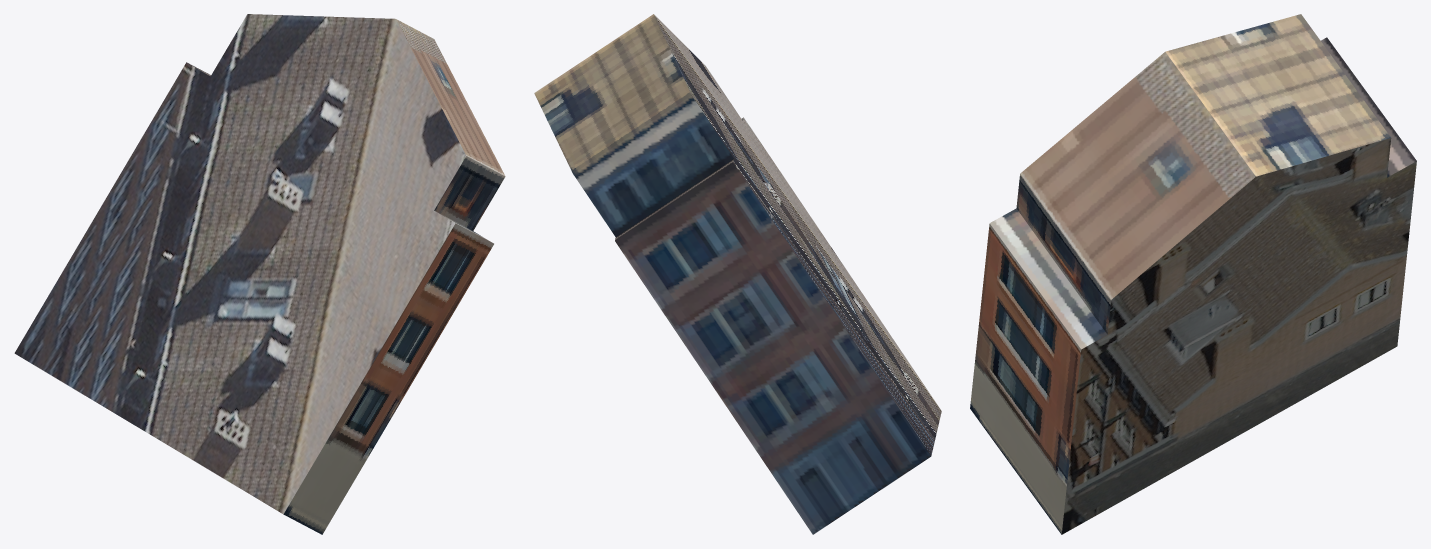
The picture shows the model from 3 angles, left to right: view 1: azimuth 30°, elevation 25°; view 2: azimuth 150°, elevation 25°; view 3: azimuth 270°, elevation 25°; orthographic projection. The views are drawn at different scales.
Visible parts, largest first — view 1: BAG_0599100000650057; view 2: BAG_0599100000650057 (×2); view 3: BAG_0599100000650057 (×2).
Part boxes in pixels (box(x1,y1,x2,y2)): BAG_0599100000650057: box(14, 14, 505, 534); BAG_0599100000650057 (×2): box(534, 14, 941, 534); BAG_0599100000650057 (×2): box(970, 14, 1416, 534).
Bounding box in the file's own units: 17.38 × 18.49 × 13.57.
Materials: 1 (1 with a texture image).
